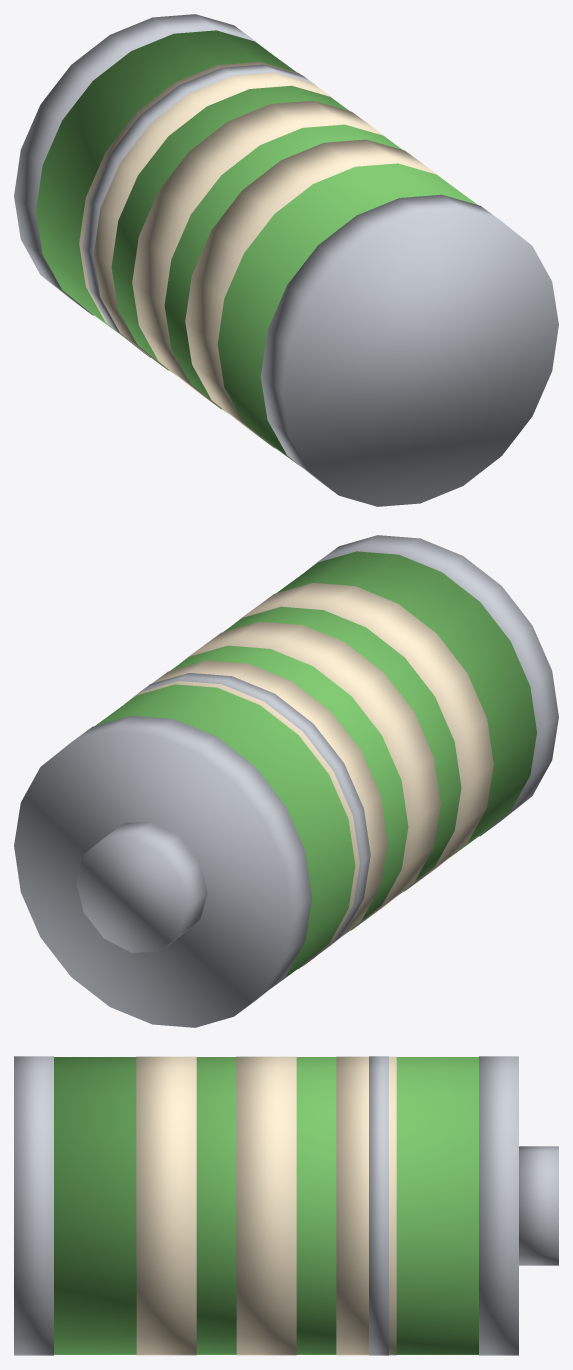
File: cargo_pencil_battery_v2.glb
3 views of the same model, one above another, from view 1: azimuth 30°, elevation 25°; view 2: azimuth 150°, elevation 25°; view 3: azimuth 270°, elevation 25° (orthographic). The views are drawn at different scales.
Visible parts, largest first — view 1: CargoBattery; view 2: CargoBattery; view 3: CargoBattery.
Boxes of the visible parts, x1=… form: CargoBattery: x1=14, y1=14, x2=558, y2=506; CargoBattery: x1=14, y1=535, x2=558, y2=1027; CargoBattery: x1=14, y1=1056, x2=558, y2=1355.
Bounding box in the file's own units: 0.0604 × 0.0604 × 0.109.
